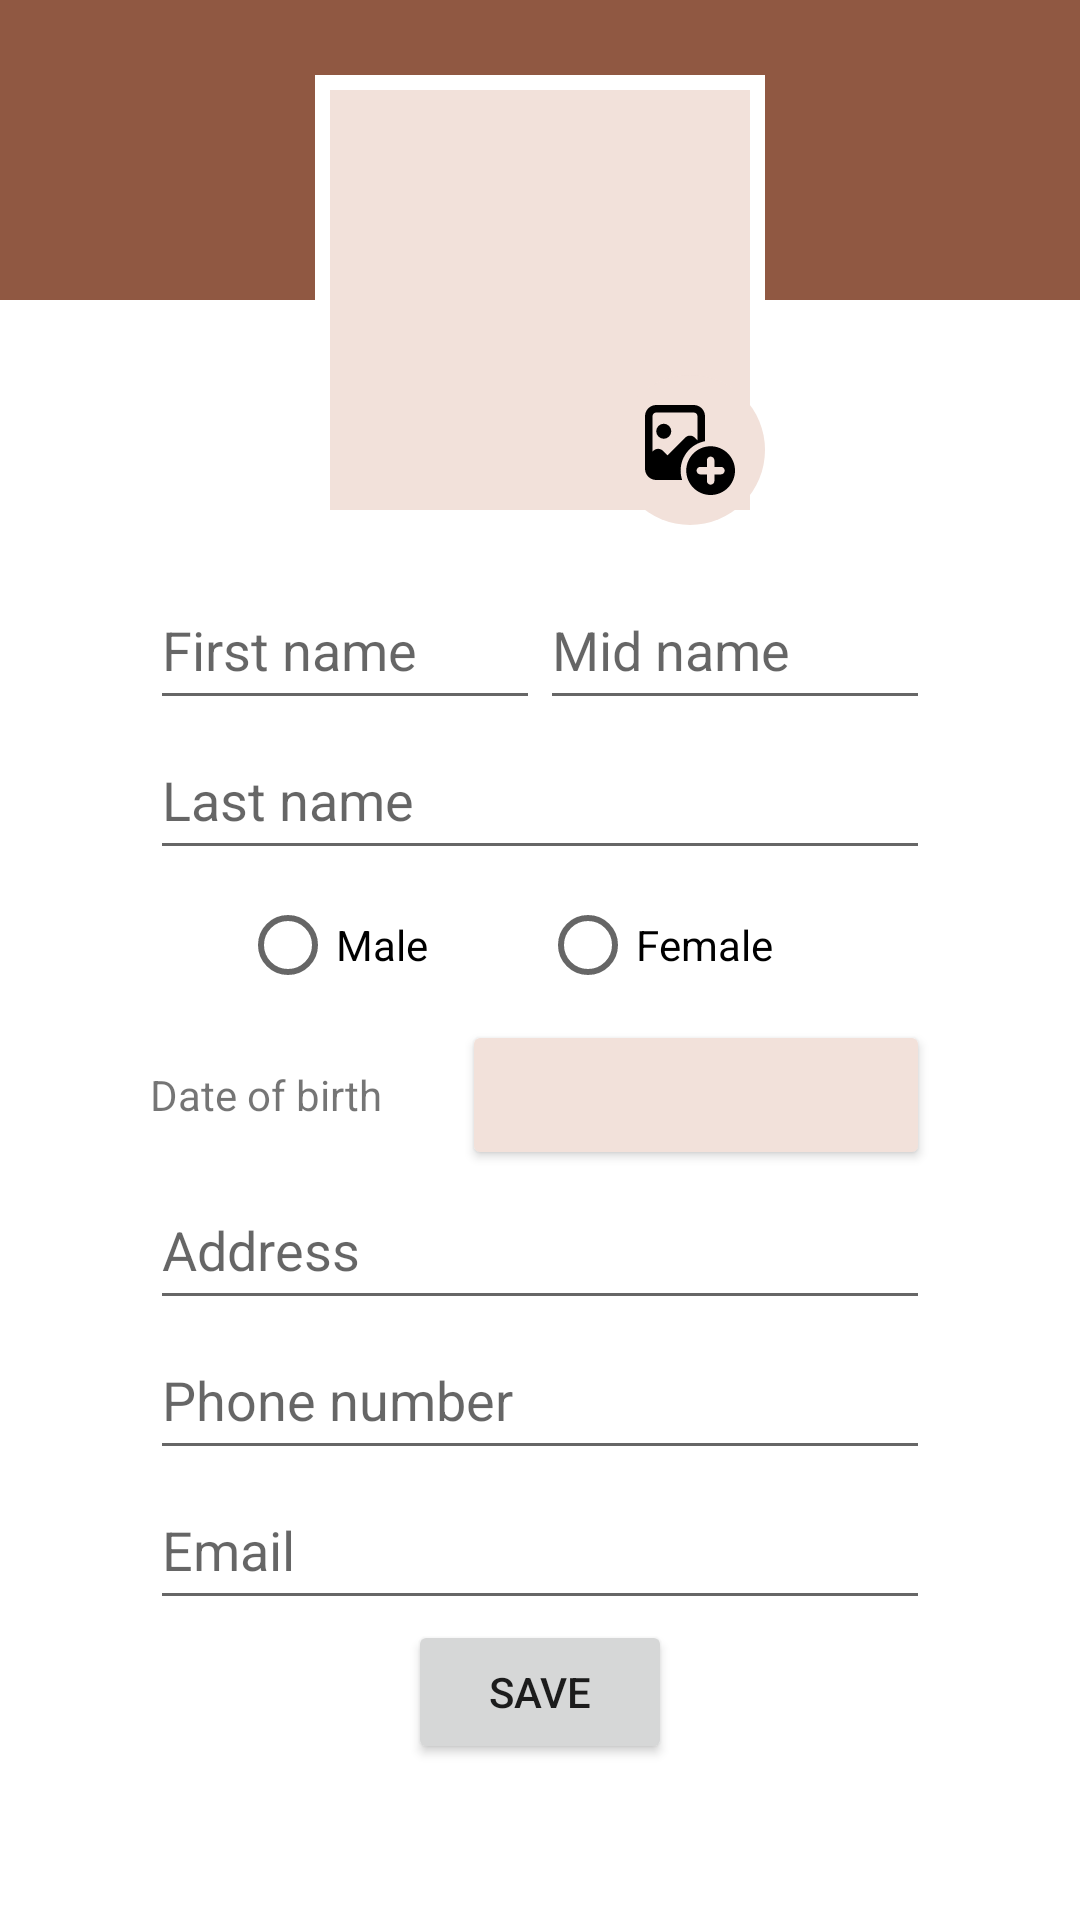

Where to tap for icons on this 1080 × 1920 app screen, as (x,y):
add: (690,450)
